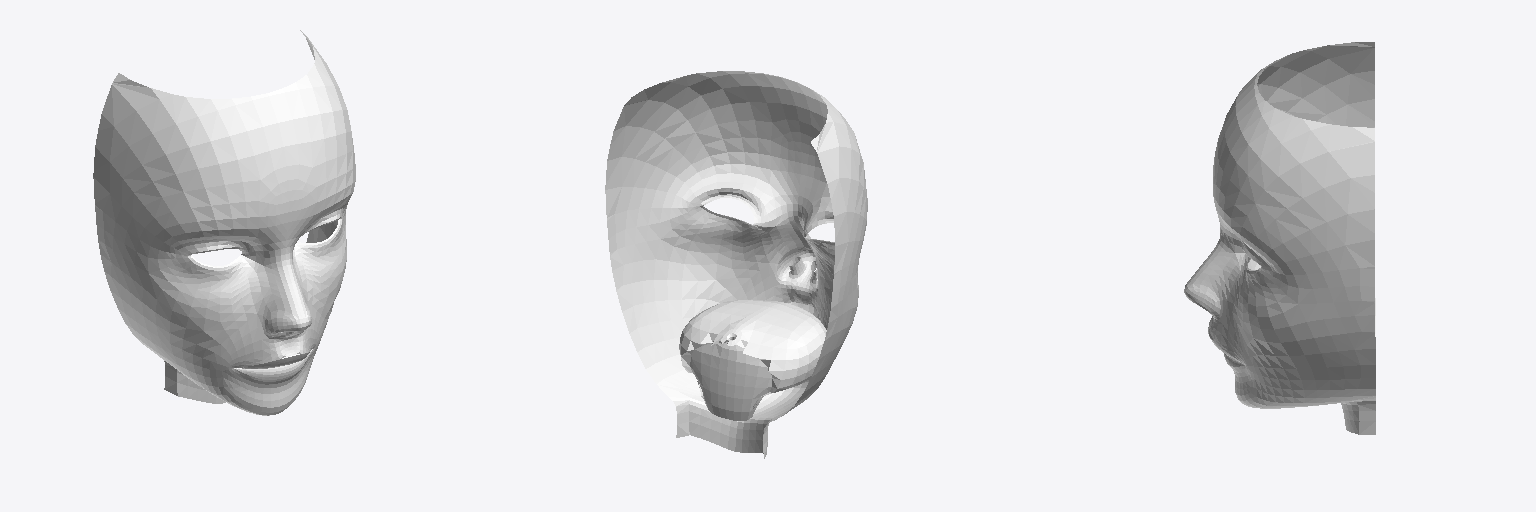
File: face-time.obj
3 views of the same model, side by side, from view 1: azimuth 30°, elevation 25°; view 2: azimuth 150°, elevation 25°; view 3: azimuth 270°, elevation 25° (orthographic).
Parts seen in each view (by area): view 1: default; view 2: default; view 3: default.
Part boxes in pixels (x1,y1,x2,y2): default: (93,30,355,415); default: (605,71,867,458); default: (1184,42,1375,434).
Bounding box in the file's own units: 2.47 × 3.53 × 1.78.